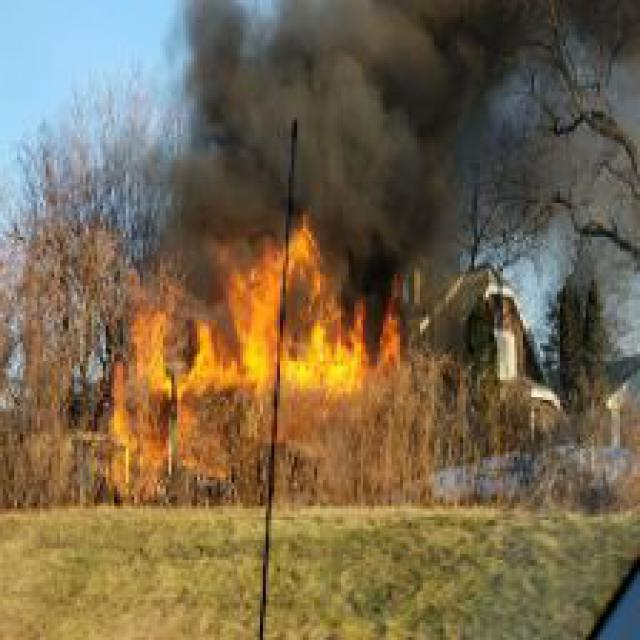fire: (91, 208, 426, 483)
